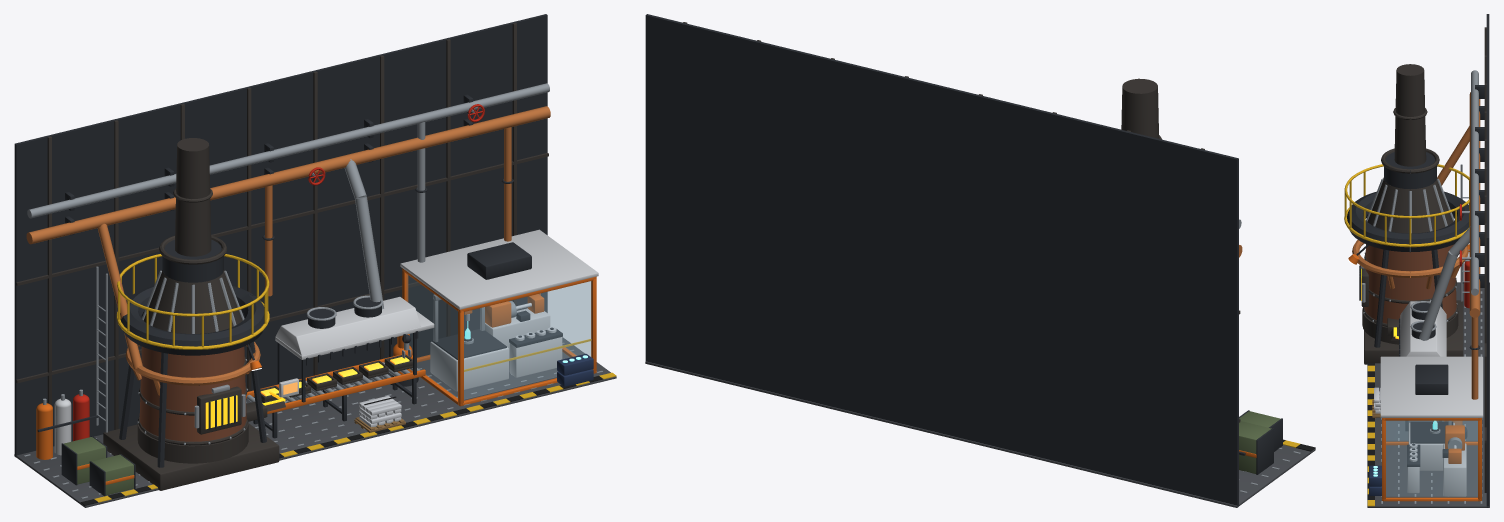
The model's file is refinery.glb.
3 renders of one model, left to right at view 1: azimuth 30°, elevation 25°; view 2: azimuth 150°, elevation 25°; view 3: azimuth 270°, elevation 25°, orthographic. The views are drawn at different scales.
Parts seen in each view (by area): view 1: Refinery, Cell; view 2: Refinery; view 3: Refinery, Cell.
Boxes of the visible parts, x1=… form: Refinery: x1=14, y1=14, x2=616, y2=507; Cell: x1=400, y1=229, x2=598, y2=406; Refinery: x1=645, y1=14, x2=1315, y2=507; Refinery: x1=1344, y1=14, x2=1489, y2=507; Cell: x1=1380, y1=356, x2=1483, y2=501.
Size of the model in its own units: 16 by 9 by 4.4.
